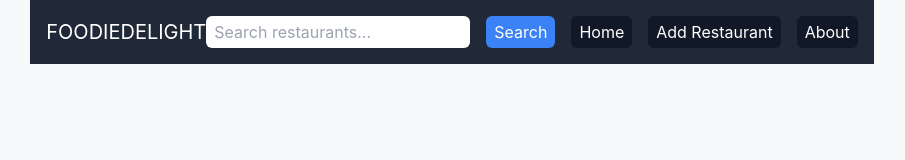
it: Header Component › clears search input correctly
Type "chinese" into the field with placeholder "Search restaurants..." at coordinates (338, 32), box [206,16,470,48]
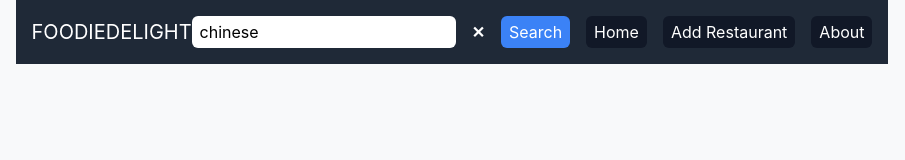
Click the button "✕" at coordinates (478, 32), box [464,16,493,48]
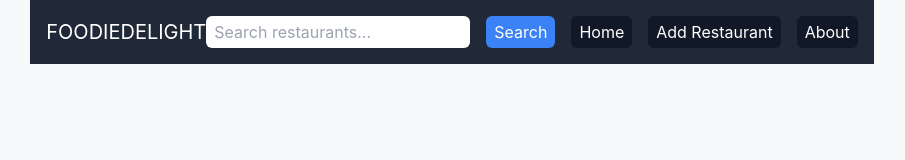
Expected: the heading "FOODIEDELIGHT" is shown, [46,18,206,46]
Expected: the field with placeholder "Search restaurants..." is empty, [206,16,470,48]
